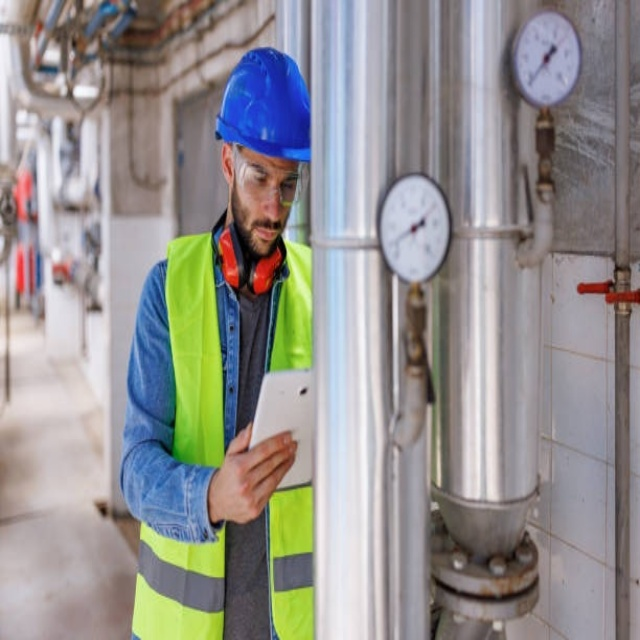Gafas: (232, 143, 306, 210)
Sin_guantes: (215, 419, 300, 526)
Sin_mascara: (248, 215, 281, 254)
